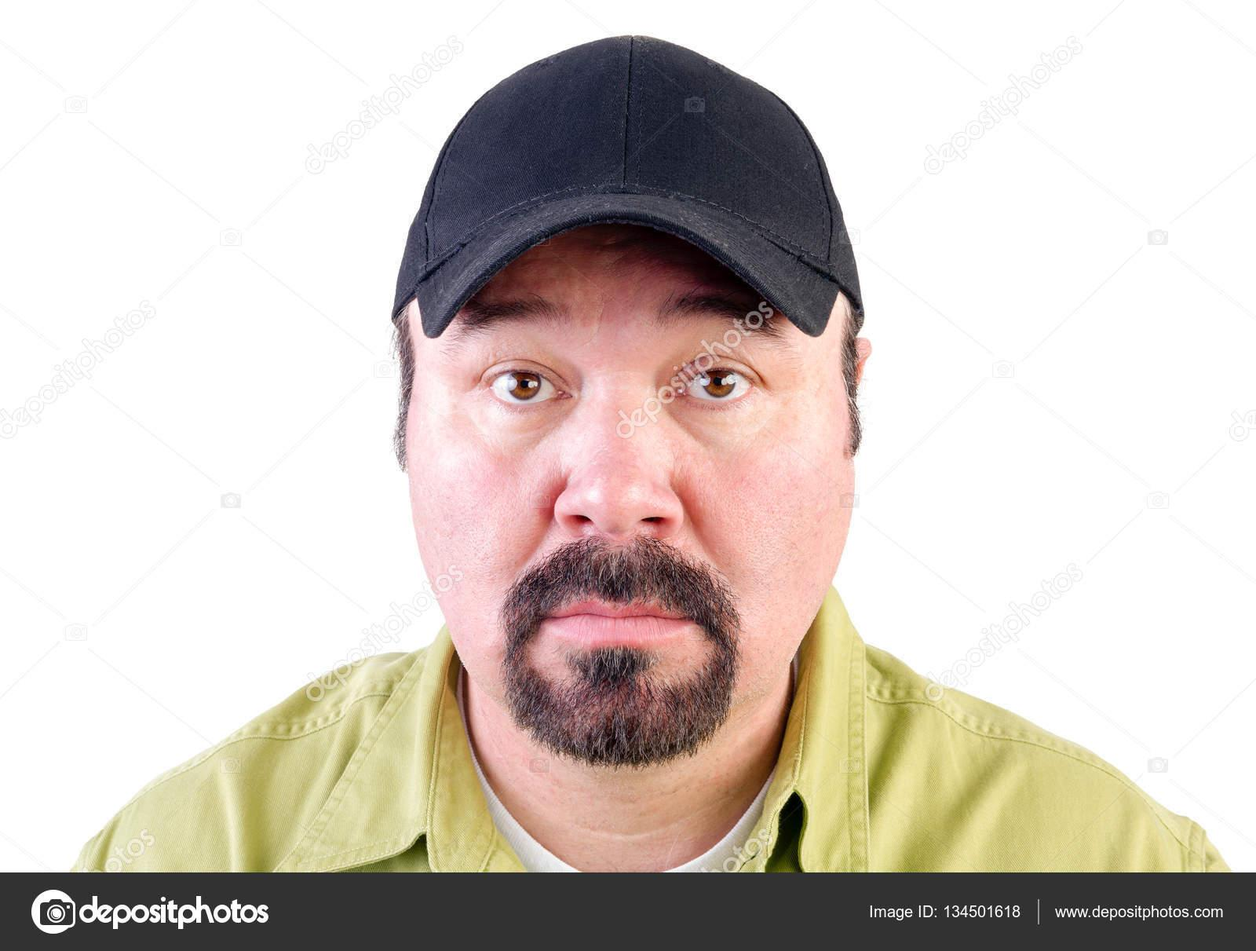cap: (382, 2, 885, 356)
